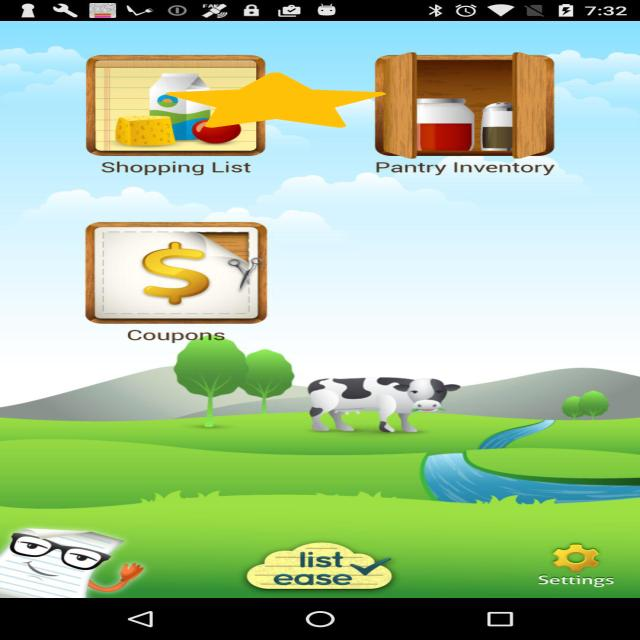forced continuity: (165, 72, 386, 128)
